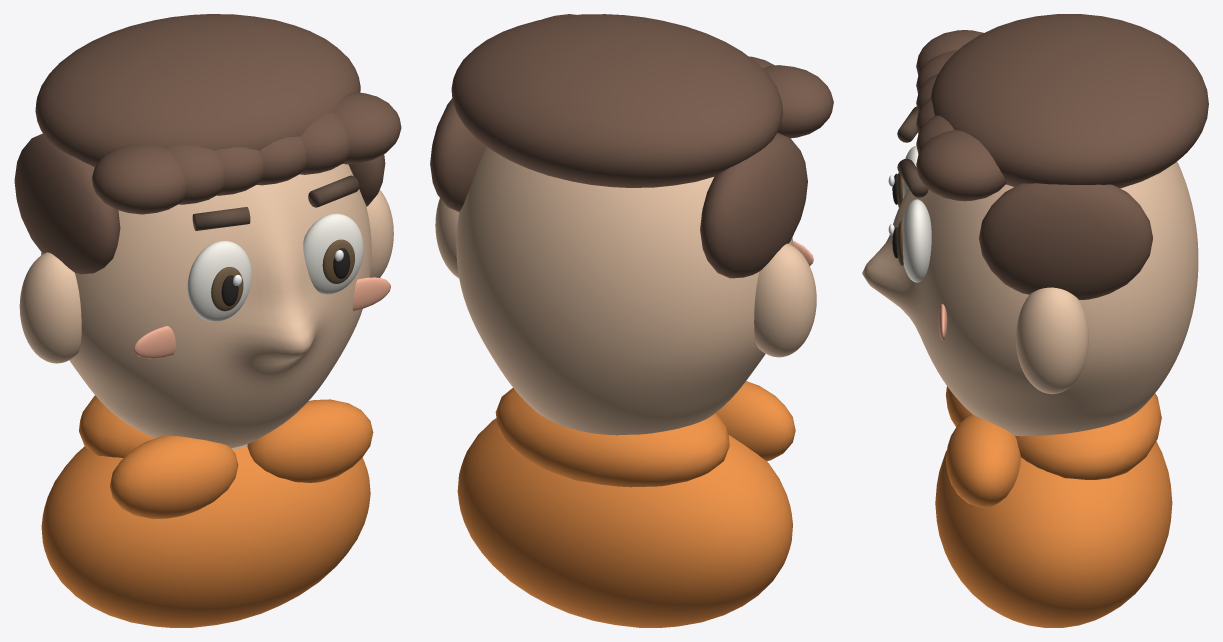
Rendered from roamlab_face_classic_preview.glb.
3 renders of one model, left to right at view 1: azimuth 30°, elevation 25°; view 2: azimuth 150°, elevation 25°; view 3: azimuth 270°, elevation 25°, orthographic. The views are drawn at different scales.
Visible parts, largest first — view 1: Head_Morph_4Shapes_NoseAuto, Jacket_Bust, Hair_Top, Hair_Temple_L, Collar_L, Collar_R, Ear_L, Hair_Fringe_00, Hair_Fringe_05, EyeSclera_L, EyeSclera_R, Collar_Back (+12 smaller); view 2: Head_Morph_4Shapes_NoseAuto, Hair_Top, Jacket_Bust, Collar_Back, Hair_Temple_L, Ear_L, Collar_L, Hair_Temple_R, Hair_Fringe_00, Ear_R; view 3: Head_Morph_4Shapes_NoseAuto, Hair_Top, Jacket_Bust, Hair_Temple_R, Collar_Back, Ear_R, Collar_R, Hair_Fringe_05, EyeSclera_R, Hair_Fringe_00, Brow_R, Hair_Fringe_04 (+2 smaller).
Boxes of the visible parts, <box> form: Head_Morph_4Shapes_NoseAuto: <box>41,164,371,448</box>; Jacket_Bust: <box>41,446,370,627</box>; Hair_Top: <box>35,14,360,167</box>; Hair_Temple_L: <box>14,133,120,274</box>; Collar_L: <box>109,435,238,519</box>; Collar_R: <box>247,399,373,482</box>; Ear_L: <box>19,252,81,363</box>; Hair_Fringe_00: <box>91,144,185,214</box>; Hair_Fringe_05: <box>333,92,401,164</box>; EyeSclera_L: <box>187,240,251,321</box>; EyeSclera_R: <box>303,213,363,294</box>; Collar_Back: <box>79,395,155,457</box>; Head_Morph_4Shapes_NoseAuto: <box>456,146,793,435</box>; Hair_Top: <box>451,14,782,187</box>; Jacket_Bust: <box>457,418,792,627</box>; Collar_Back: <box>495,388,729,487</box>; Hair_Temple_L: <box>700,132,807,278</box>; Ear_L: <box>754,243,816,357</box>; Collar_L: <box>716,381,795,460</box>; Hair_Temple_R: <box>430,98,486,211</box>; Hair_Fringe_00: <box>763,65,833,138</box>; Ear_R: <box>435,198,459,278</box>; Head_Morph_4Shapes_NoseAuto: <box>862,161,1198,436</box>; Hair_Top: <box>931,14,1208,188</box>; Jacket_Bust: <box>935,441,1172,627</box>; Hair_Temple_R: <box>979,183,1152,299</box>; Collar_Back: <box>1015,393,1161,479</box>; Ear_R: <box>1016,287,1088,394</box>; Collar_R: <box>945,414,1020,507</box>; Hair_Fringe_05: <box>916,130,1006,201</box>; EyeSclera_R: <box>903,199,931,282</box>; Hair_Fringe_00: <box>916,30,983,74</box>; Brow_R: <box>897,158,928,197</box>; Hair_Fringe_04: <box>916,115,953,154</box>.
Size of the model in its own units: 1.19 by 1.76 by 0.9952.
